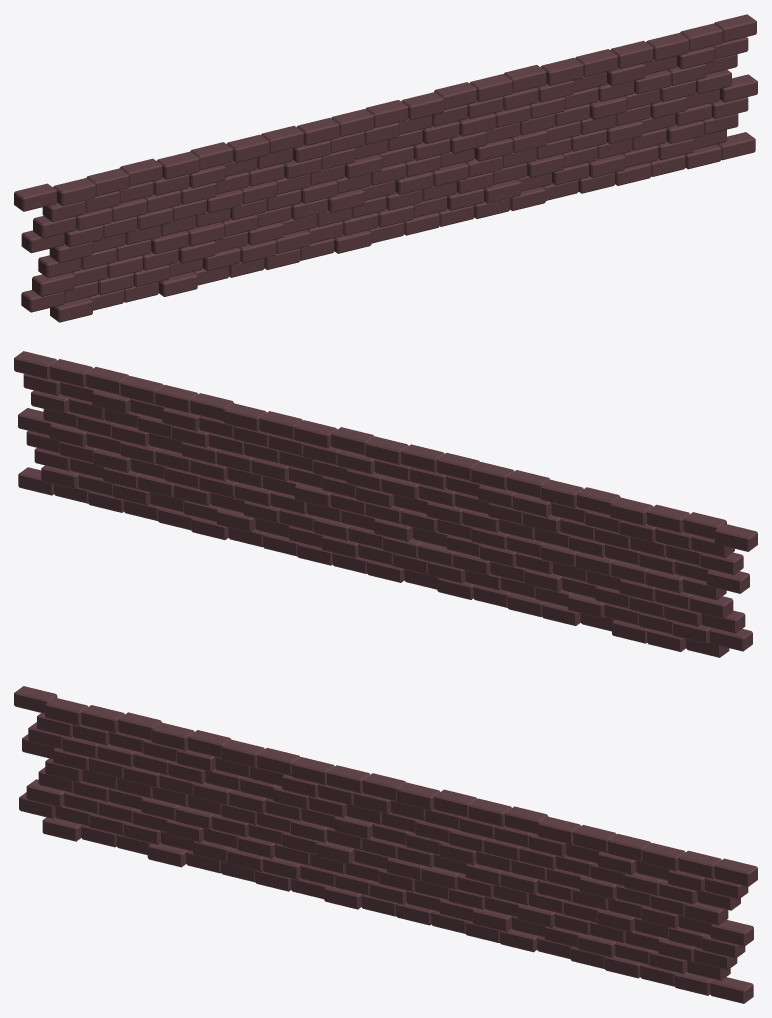
File: Brick wall.glb
3 renders of one model, top to bottom at view 1: azimuth 30°, elevation 25°; view 2: azimuth 150°, elevation 25°; view 3: azimuth 330°, elevation 25°, orthographic.
Visible parts, largest first — view 1: Brick wall segment; view 2: Brick wall segment; view 3: Brick wall segment.
Boxes of the visible parts, x1,y1,x2,y2 form: Brick wall segment: (14, 14, 757, 322); Brick wall segment: (14, 351, 757, 657); Brick wall segment: (14, 686, 757, 1003).
Bounding box in the file's own units: 16.58 × 2.82 × 0.5485.
